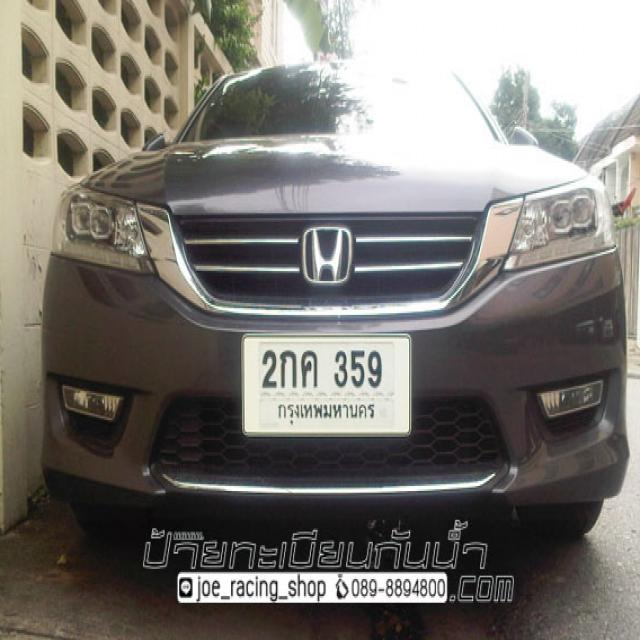license_plate: (242, 332, 412, 438)
